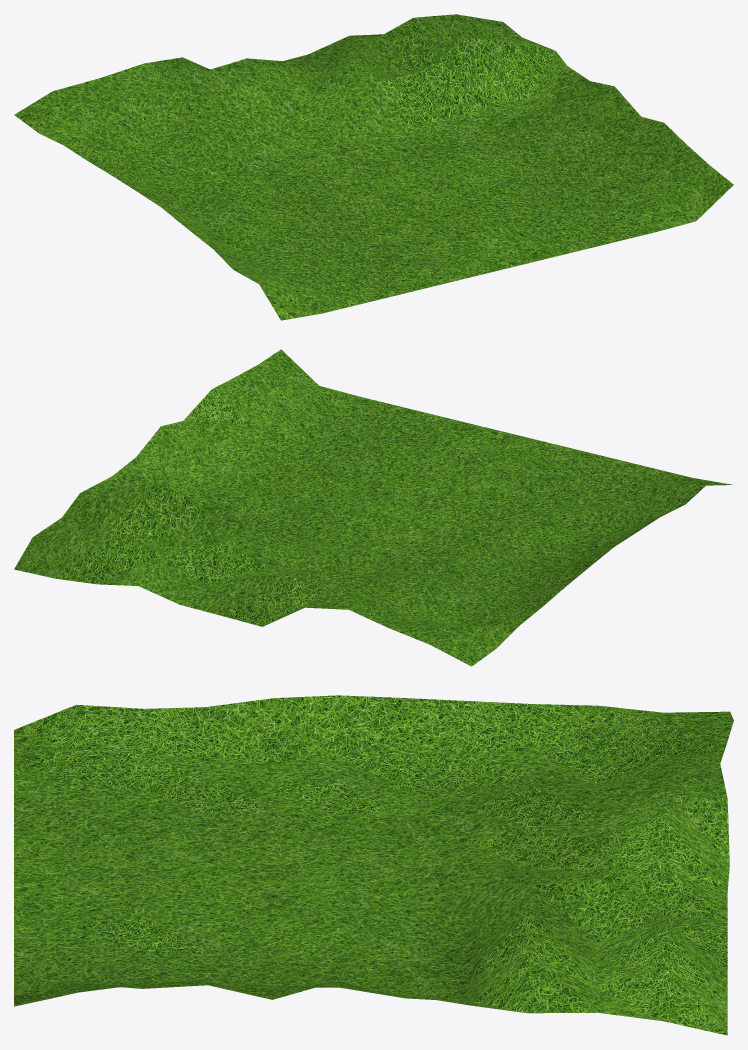
File: Your ass is grass.fbx
3 renders of one model, top to bottom at view 1: azimuth 30°, elevation 25°; view 2: azimuth 150°, elevation 25°; view 3: azimuth 270°, elevation 25°, orthographic. The views are drawn at different scales.
Parts seen in each view (by area): view 1: Plane; view 2: Plane; view 3: Plane.
Boxes of the visible parts, box(x1,y1,x2,y2) form: Plane: box(14, 14, 733, 320); Plane: box(14, 349, 732, 666); Plane: box(14, 695, 733, 1035).
Bounding box in the file's own units: 35980 × 3982 × 35517.
